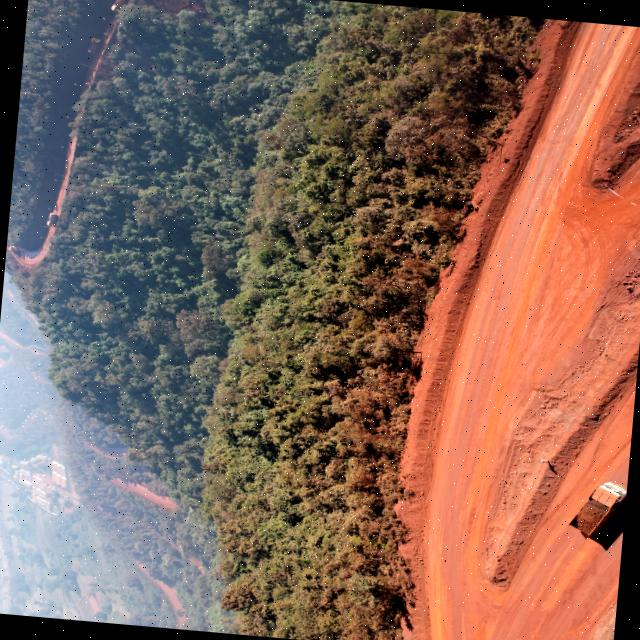Dumper truck: (564, 478, 626, 537), (109, 0, 126, 12), (86, 38, 100, 52), (46, 212, 55, 226), (7, 244, 18, 253)
